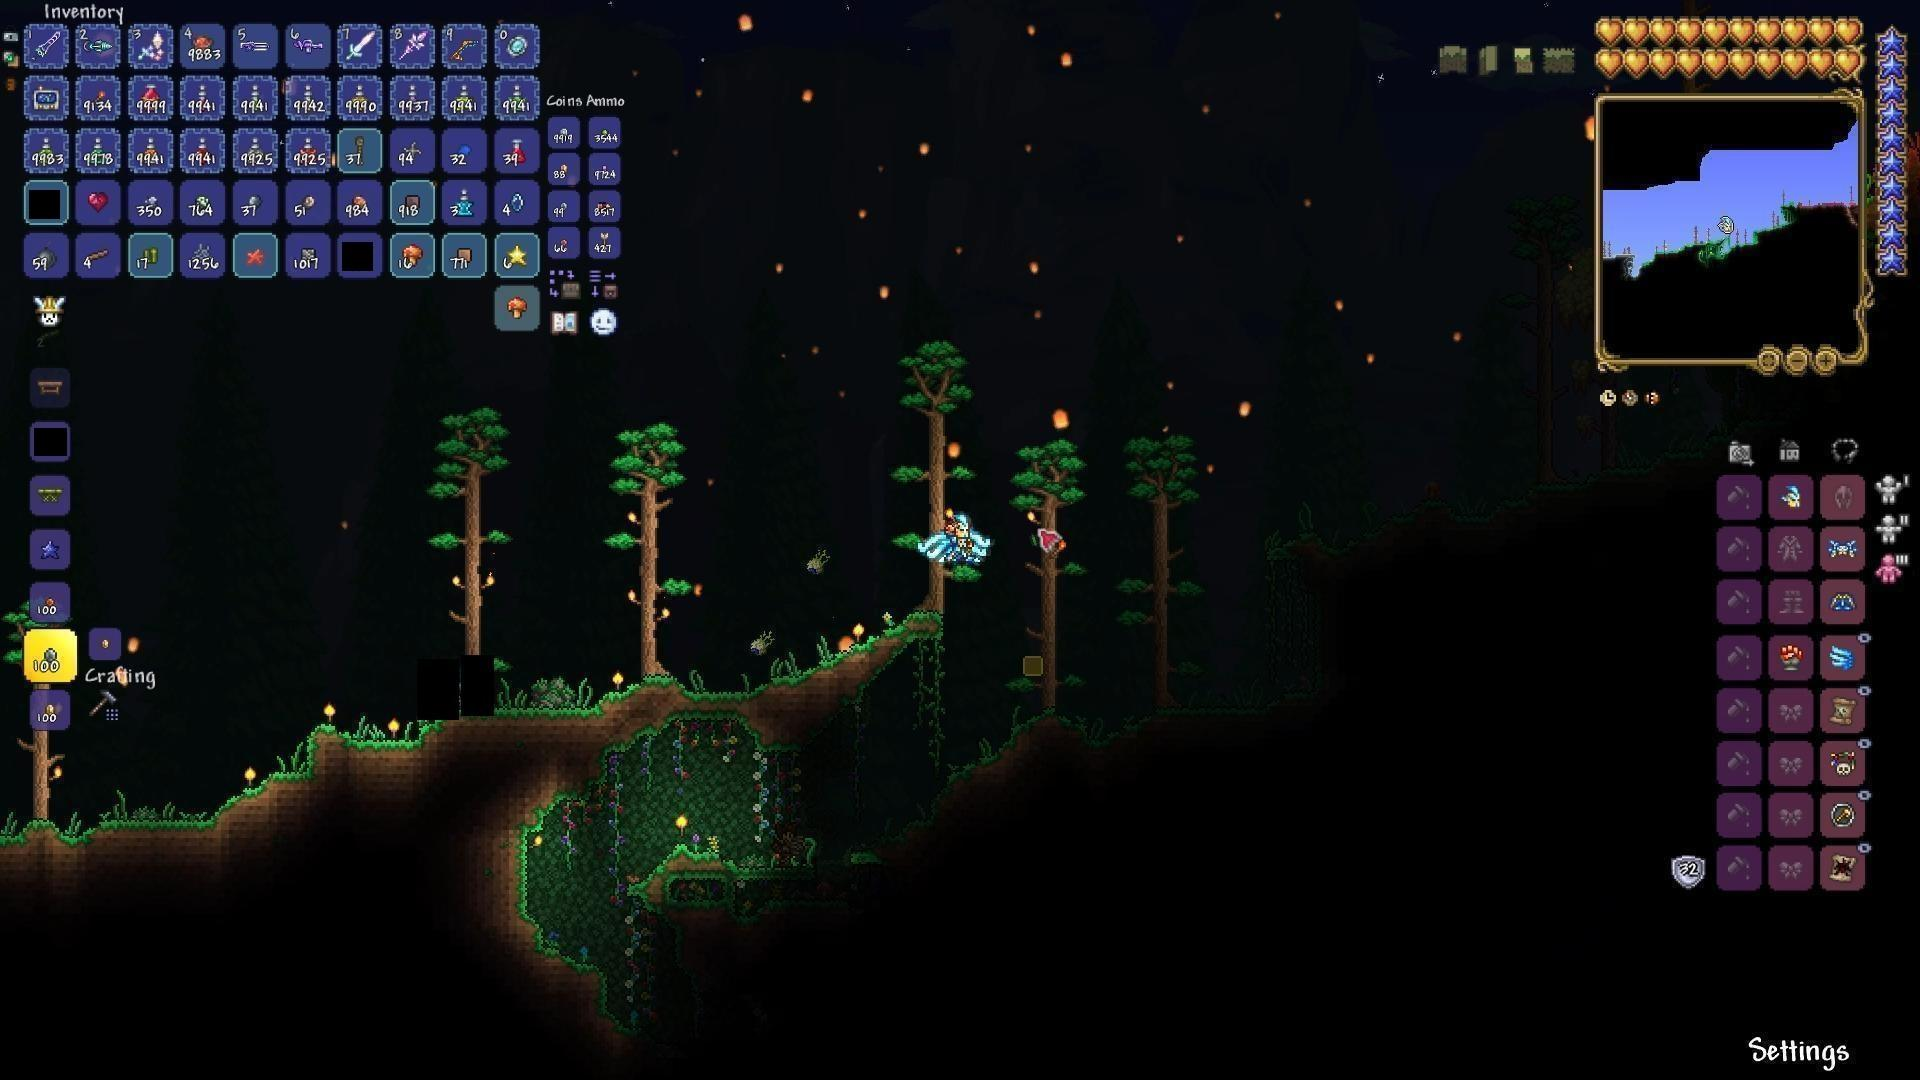workbench: (34, 376, 66, 404)
